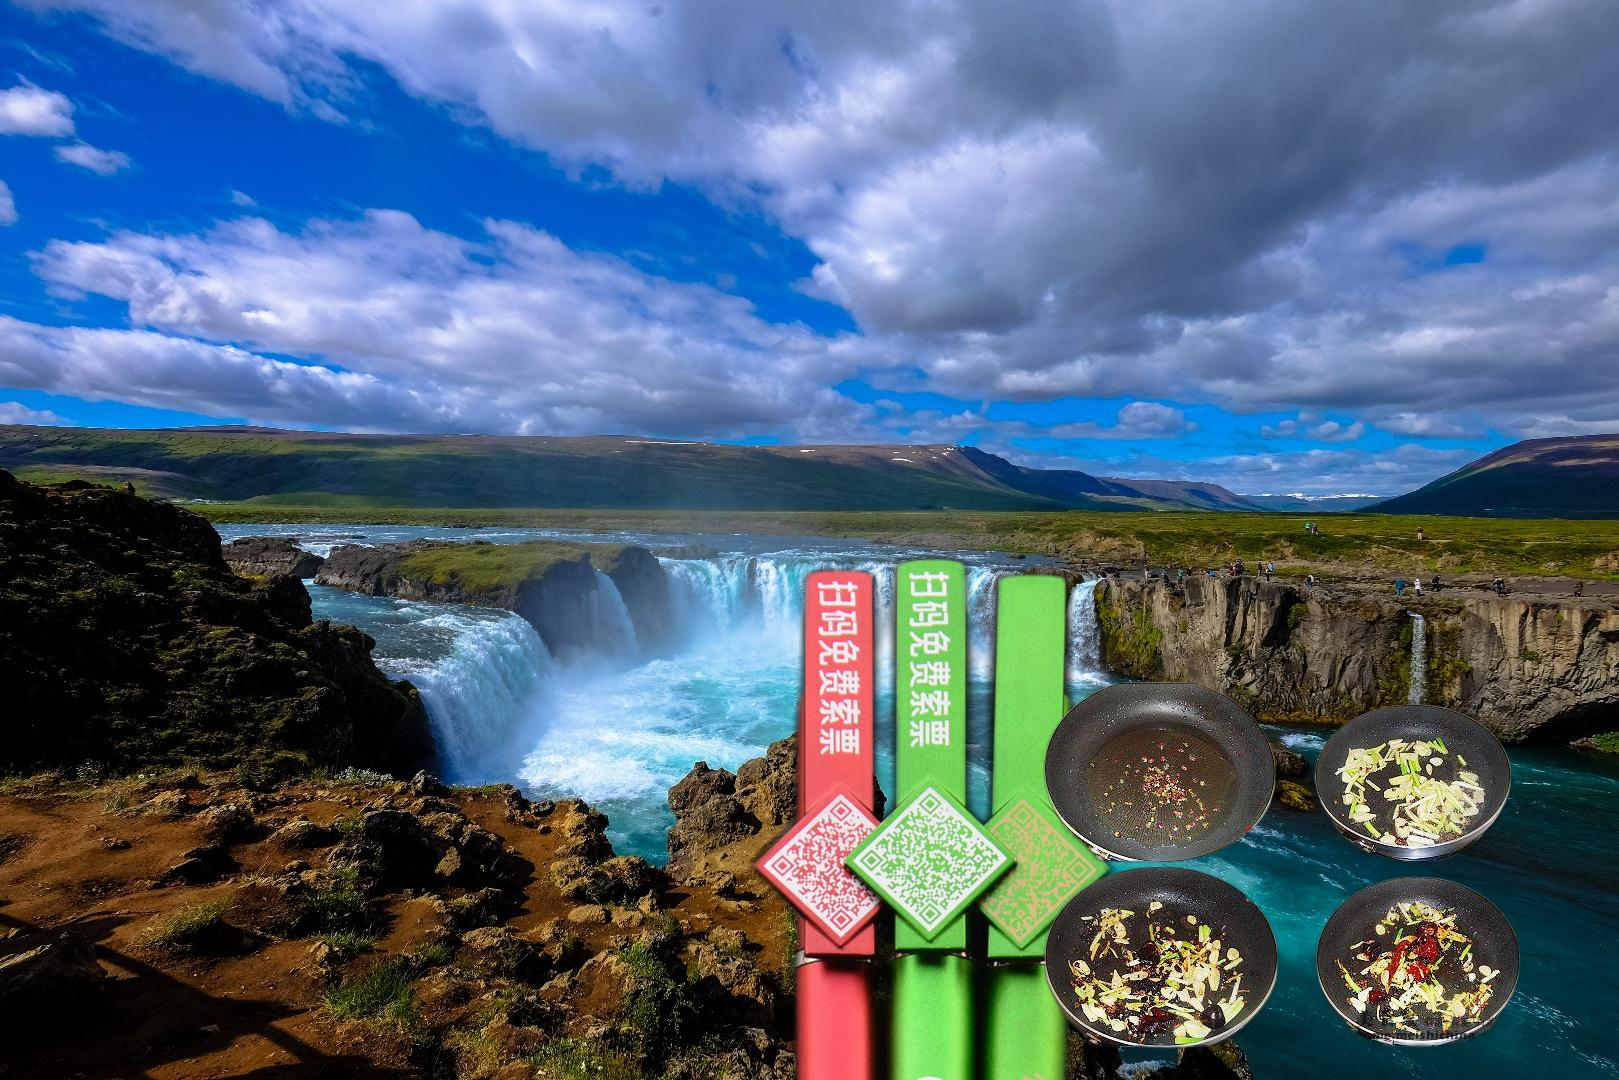biological: (1033, 681, 1531, 1050)
penholder: (735, 546, 1127, 1080)
